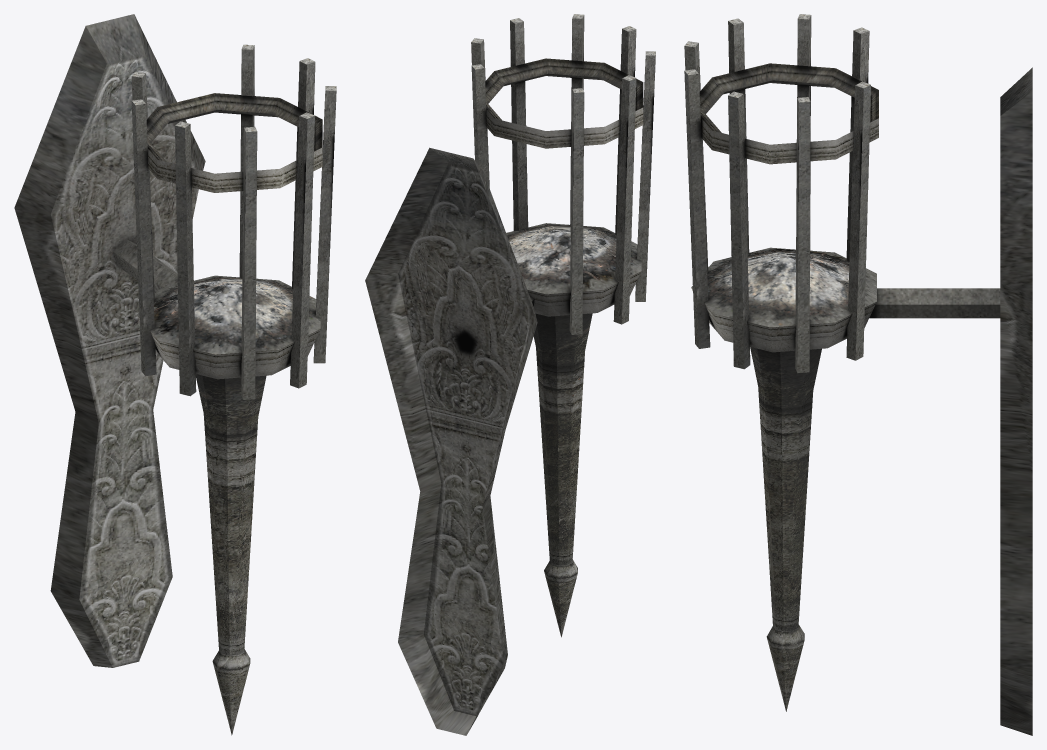
File: PropTorchWall_2.fbx
3 renders of one model, left to right at view 1: azimuth 30°, elevation 25°; view 2: azimuth 150°, elevation 25°; view 3: azimuth 270°, elevation 25°, orthographic. The views are drawn at different scales.
Visible parts, largest first — view 1: Mesh; view 2: Mesh; view 3: Mesh.
Boxes of the visible parts, <box> form: Mesh: <box>14,14,336,735</box>; Mesh: <box>365,14,655,735</box>; Mesh: <box>684,14,1032,735</box>.
Size of the model in its own units: 55.42 by 184 by 86.53.
